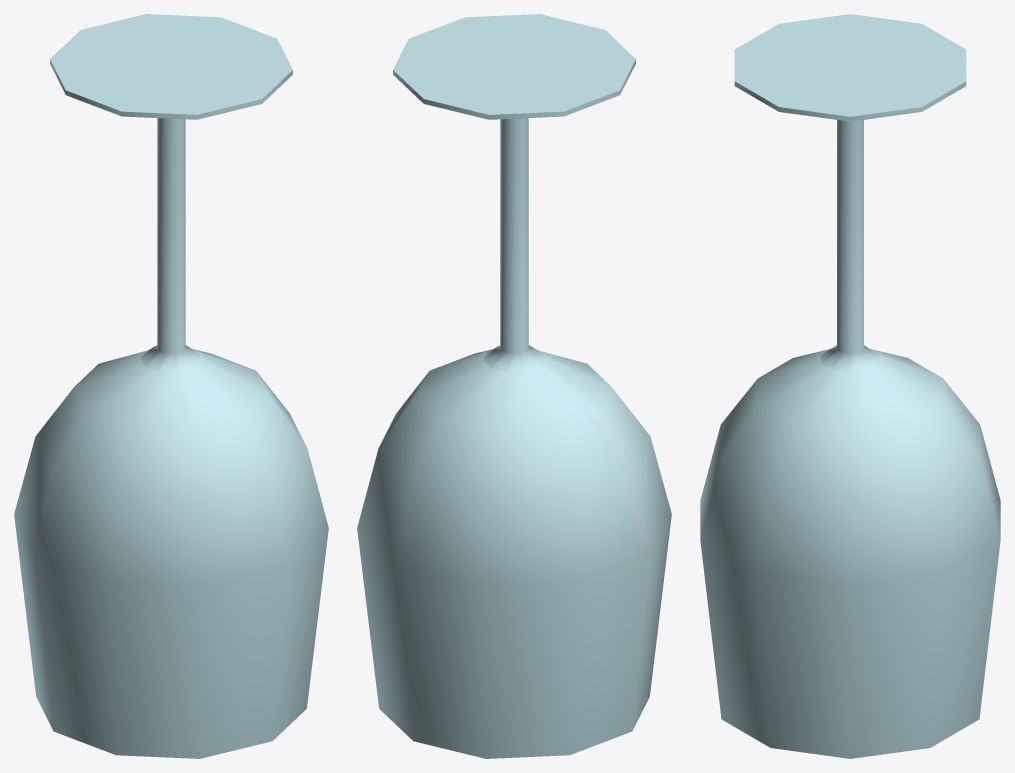
The model's file is HW_Glass 3.fbx.
3 renders of one model, left to right at view 1: azimuth 30°, elevation 25°; view 2: azimuth 150°, elevation 25°; view 3: azimuth 270°, elevation 25°, orthographic.
Parts seen in each view (by area): view 1: Wine_Glass; view 2: Wine_Glass; view 3: Wine_Glass.
Boxes of the visible parts, x1=… form: Wine_Glass: x1=14, y1=14, x2=328, y2=758; Wine_Glass: x1=357, y1=14, x2=671, y2=758; Wine_Glass: x1=700, y1=14, x2=1000, y2=758.
Bounding box in the file's own units: 0.0913 × 0.2031 × 0.0868.
